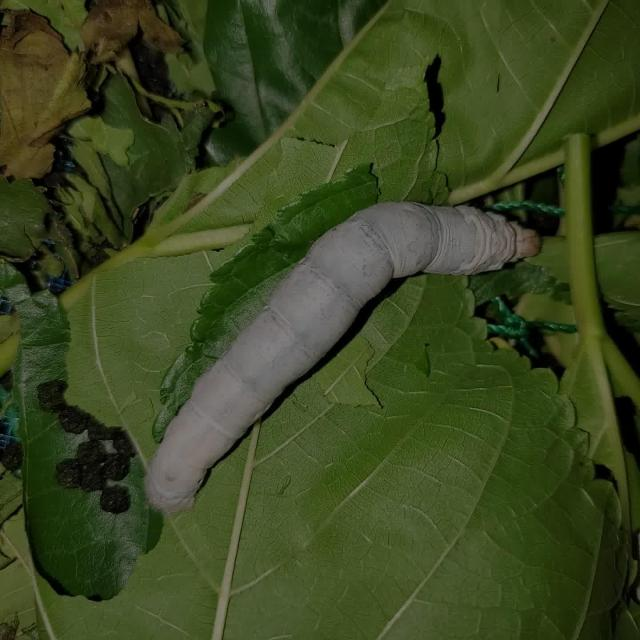Healthy: (121, 185, 548, 518)
